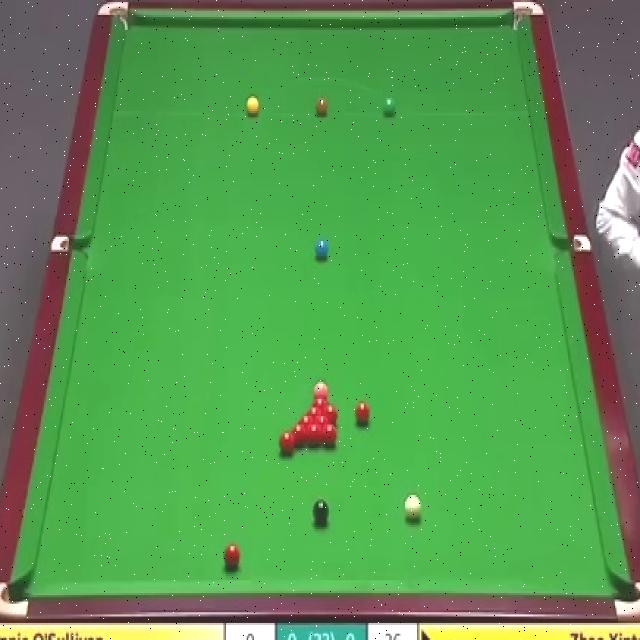black-ball: (311, 499, 331, 523)
blue-ball: (313, 240, 330, 262)
brown-ball: (314, 97, 328, 117)
green-ball: (381, 95, 396, 117)
pink-ball: (312, 380, 329, 401)
red-ball: (223, 543, 242, 572), (354, 399, 372, 427), (321, 421, 338, 447), (308, 424, 323, 450), (322, 402, 338, 424), (280, 433, 295, 456), (292, 424, 306, 447), (312, 398, 329, 412), (315, 414, 329, 428), (300, 415, 314, 427)
white-ball: (403, 493, 422, 520)
yellow-ball: (245, 95, 259, 117)
